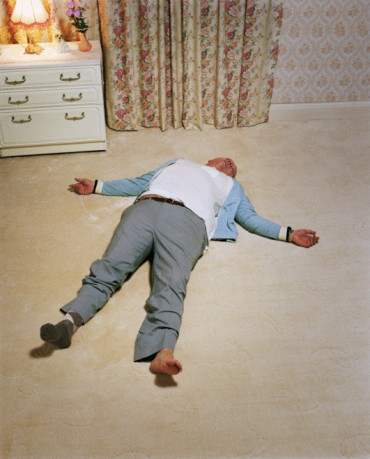deitado: (32, 129, 315, 361)
